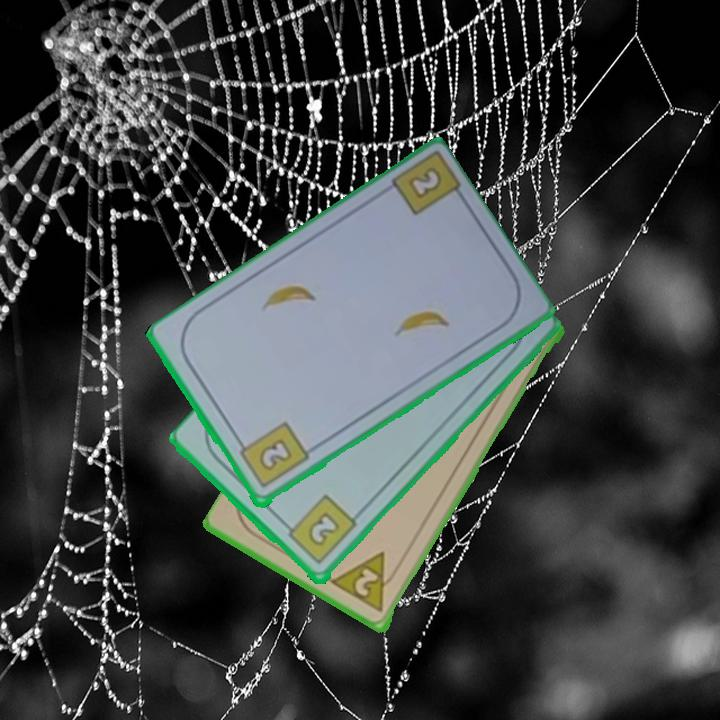2b: (280, 492, 360, 568), (233, 418, 312, 492), (404, 163, 445, 203)
2p: (329, 549, 403, 616)
